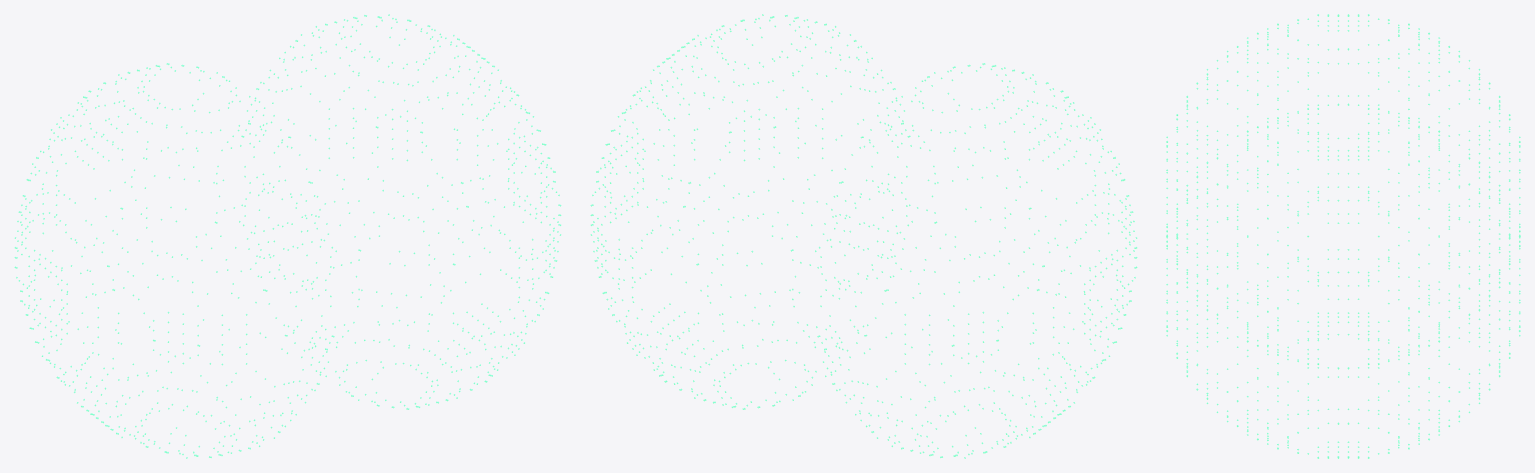
File: orbital_n2_l1_m1_real_point_cloud.fbx
3 renders of one model, left to right at view 1: azimuth 30°, elevation 25°; view 2: azimuth 150°, elevation 25°; view 3: azimuth 270°, elevation 25°, orthographic. The views are drawn at different scales.
Parts seen in each view (by area): view 1: orbital_n2_l1_m1_real_point_cloud; view 2: orbital_n2_l1_m1_real_point_cloud; view 3: orbital_n2_l1_m1_real_point_cloud.
Boxes of the visible parts, left/top/right/bottom form: orbital_n2_l1_m1_real_point_cloud: left=14, top=14, right=561, bottom=458; orbital_n2_l1_m1_real_point_cloud: left=590, top=14, right=1137, bottom=458; orbital_n2_l1_m1_real_point_cloud: left=1166, top=14, right=1520, bottom=458.
Size of the model in its own units: 1945 by 1337 by 1337.
